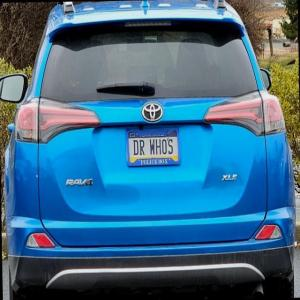Plate: (125, 126, 181, 168)
